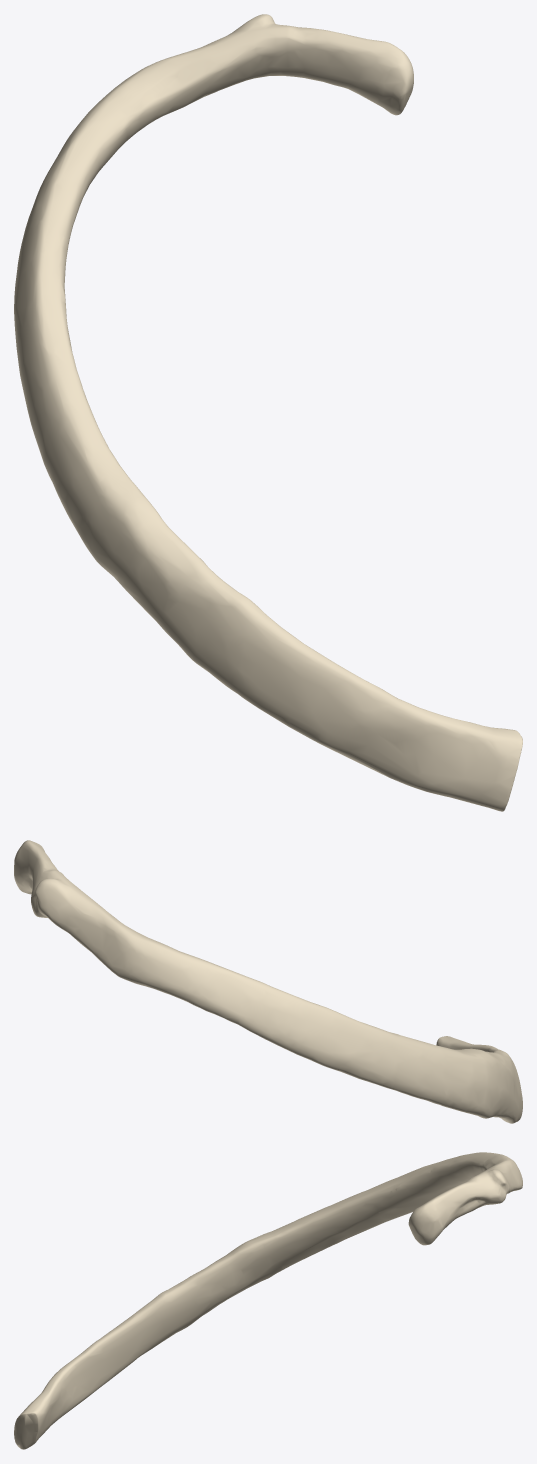
File: fourth-rib-r.glb
3 views of the same model, one above another, from view 1: azimuth 30°, elevation 25°; view 2: azimuth 150°, elevation 25°; view 3: azimuth 270°, elevation 25° (orthographic). The views are drawn at different scales.
Parts seen in each view (by area): view 1: Fourth rib.r; view 2: Fourth rib.r; view 3: Fourth rib.r.
Part boxes in pixels (left/top/right/bottom): Fourth rib.r: left=14, top=14, right=522, bottom=811; Fourth rib.r: left=14, top=840, right=522, bottom=1123; Fourth rib.r: left=14, top=1152, right=522, bottom=1449.
Bounding box in the file's own units: 0.1096 × 0.1171 × 0.1698.
